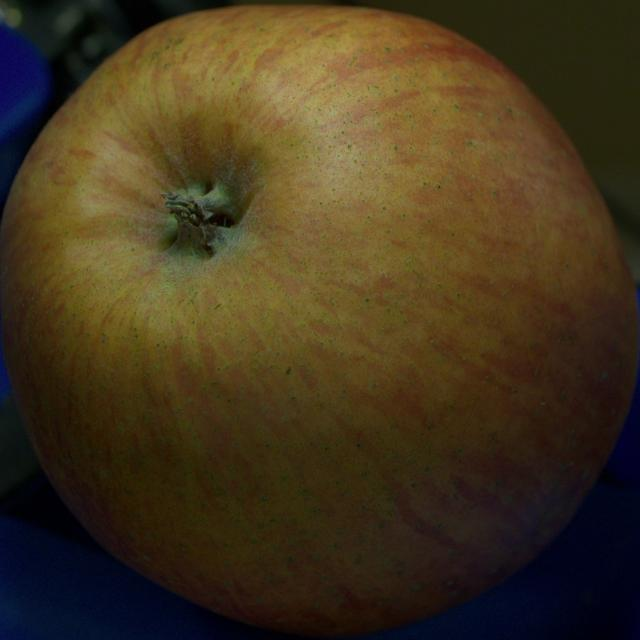apple: (0, 6, 639, 636)
